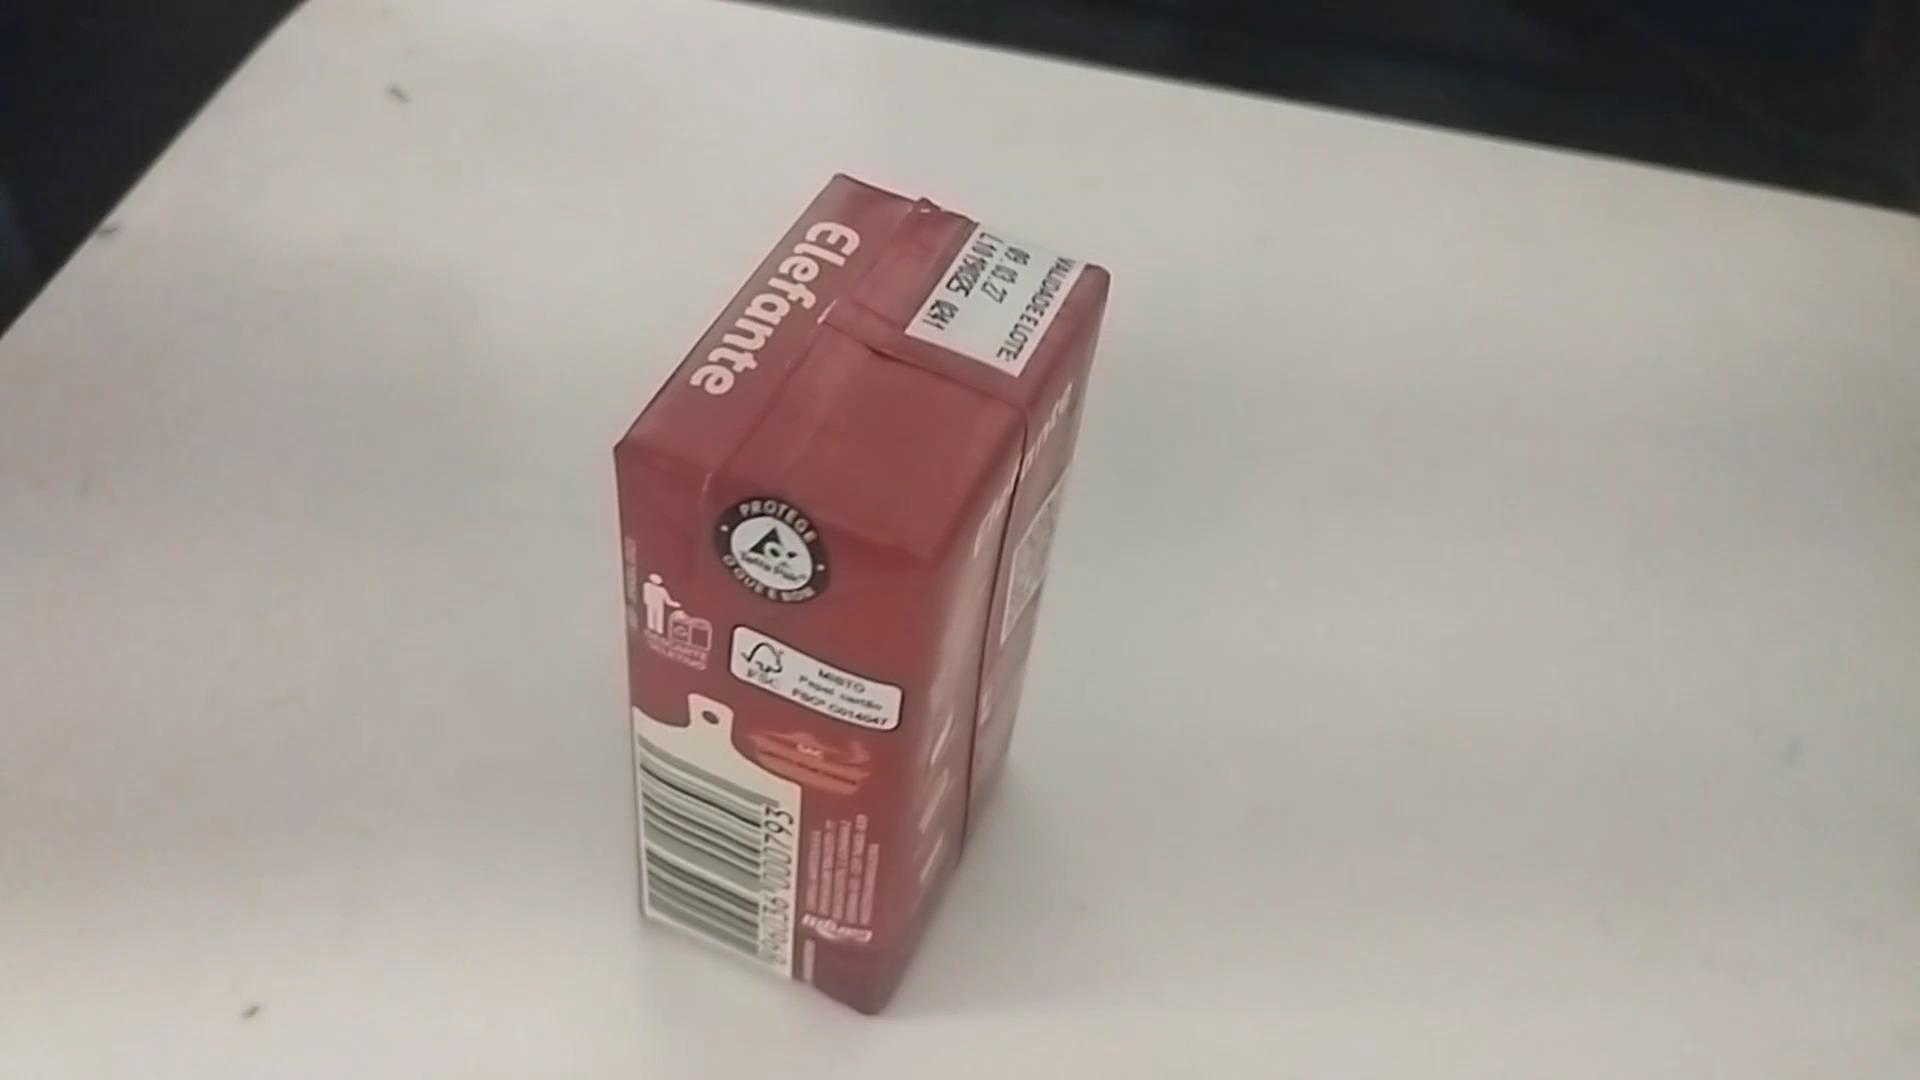tomate: (611, 161, 1127, 1014)
